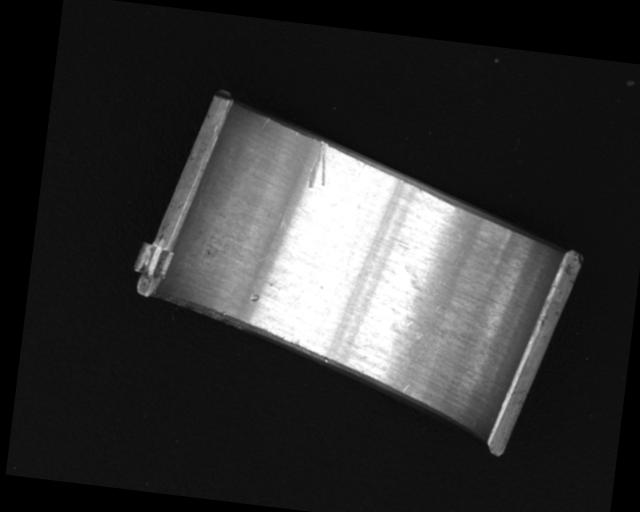bruise: (248, 292, 260, 304)
nick: (306, 139, 333, 190), (259, 115, 270, 130)
